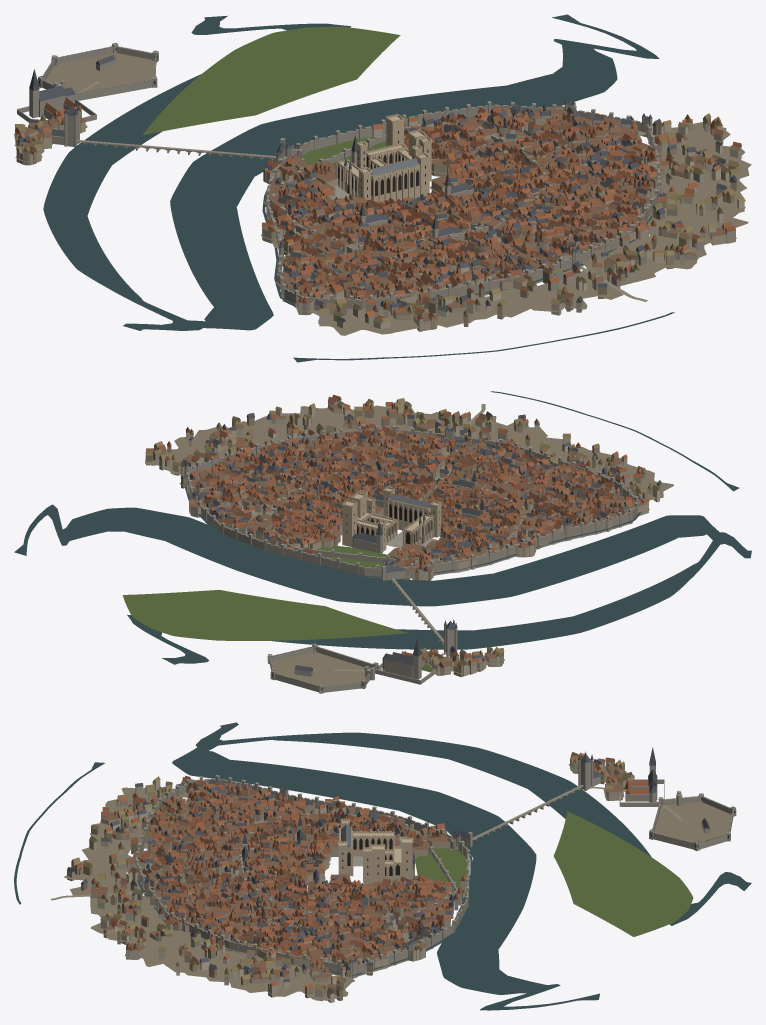
File: avignon.glb
3 views of the same model, one above another, from view 1: azimuth 30°, elevation 25°; view 2: azimuth 150°, elevation 25°; view 3: azimuth 270°, elevation 25° (orthographic). The views are drawn at different scales.
Parts seen in each view (by area): view 1: ground, houses, blocks, remparts, fort_saint_andre, palais_des_papes__clement_vi, landmarks, palais_des_papes, chartreuse, enceinte_xiii; view 2: ground, houses, blocks, remparts, fort_saint_andre, palais_des_papes__clement_vi, landmarks, palais_des_papes, chartreuse, enceinte_xiii; view 3: ground, houses, blocks, remparts, fort_saint_andre, palais_des_papes__clement_vi, landmarks, palais_des_papes, chartreuse, enceinte_xiii.
Boxes of the visible parts, x1,y1,x2,y2 form: ground: [14, 14, 751, 362]; houses: [14, 105, 744, 331]; blocks: [16, 105, 728, 330]; remparts: [262, 99, 664, 309]; fort_saint_andre: [37, 43, 158, 100]; palais_des_papes__clement_vi: [335, 136, 432, 202]; landmarks: [51, 103, 474, 237]; palais_des_papes: [356, 113, 426, 169]; chartreuse: [17, 69, 96, 122]; enceinte_xiii: [271, 124, 553, 254]; ground: [14, 391, 751, 674]; houses: [145, 394, 661, 677]; blocks: [183, 403, 648, 676]; remparts: [184, 425, 641, 579]; fort_saint_andre: [267, 643, 378, 693]; palais_des_papes__clement_vi: [359, 486, 441, 548]; landmarks: [352, 470, 485, 660]; palais_des_papes: [342, 492, 397, 551]; chartreuse: [375, 638, 436, 684]; enceinte_xiii: [263, 472, 528, 564]; ground: [14, 722, 751, 1010]; houses: [67, 752, 632, 1002]; blocks: [101, 759, 634, 983]; remparts: [135, 775, 472, 978]; fort_saint_andre: [649, 791, 736, 851]; palais_des_papes__clement_vi: [338, 818, 395, 885]; landmarks: [242, 751, 600, 883]; palais_des_papes: [362, 836, 413, 883]; chartreuse: [619, 747, 664, 806]; enceinte_xiii: [239, 811, 457, 922].
Size of the model in its own units: 11.6 by 0.8238 by 12.56.
